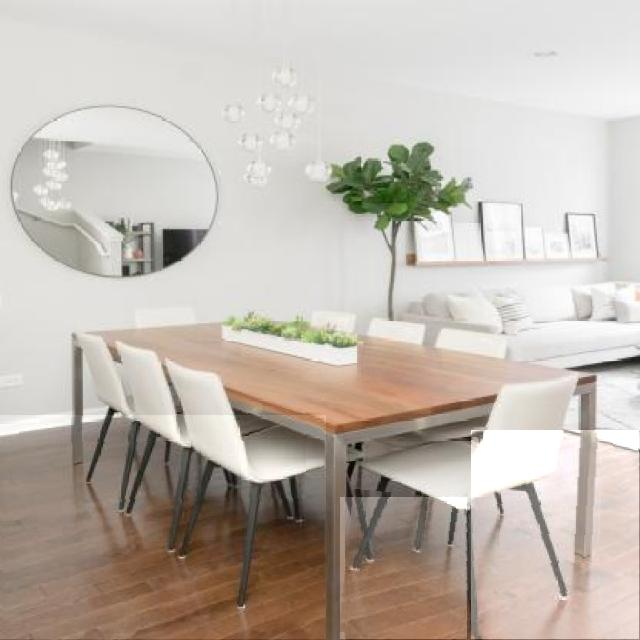floor: (0, 415, 326, 640), (471, 430, 639, 639), (341, 498, 467, 640)
